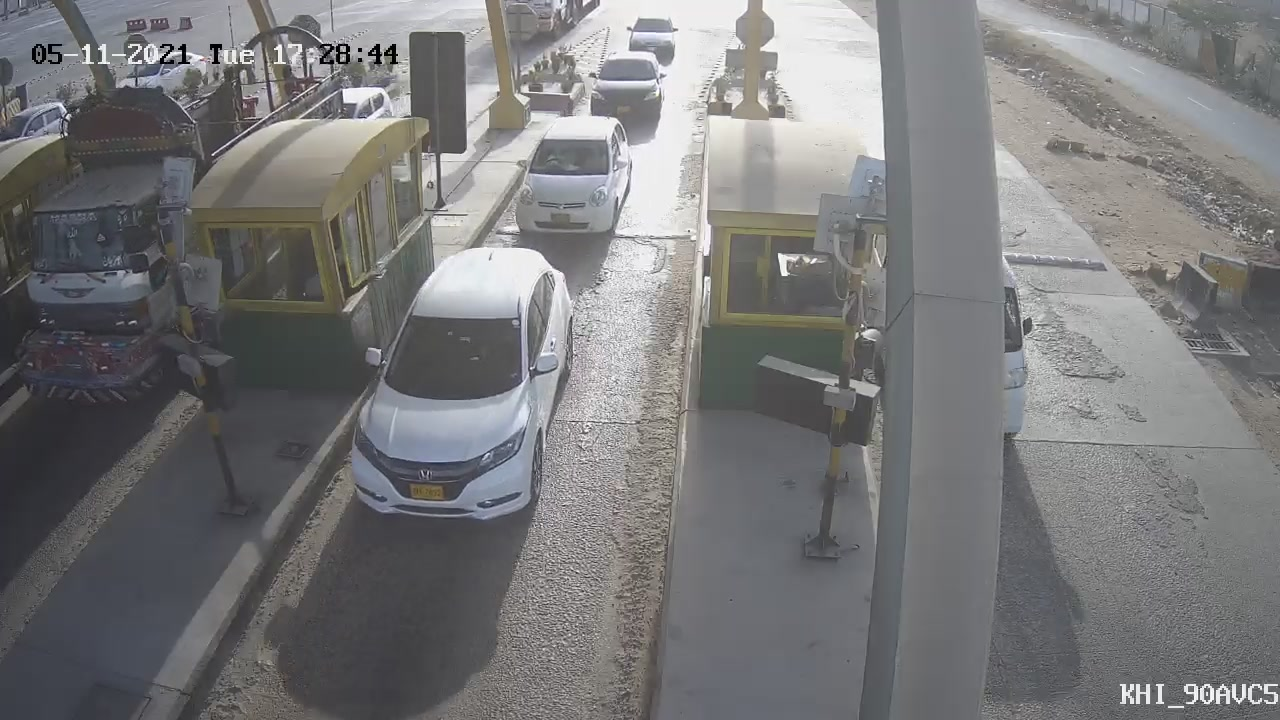F1: (322, 226, 598, 544), (497, 101, 646, 255)
